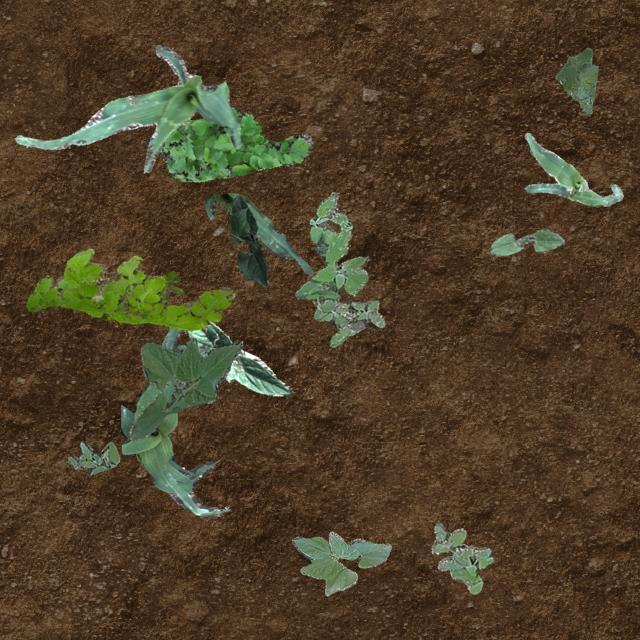crop: (14, 45, 240, 172), (120, 327, 228, 516), (128, 336, 242, 438), (204, 192, 312, 274), (186, 320, 292, 396), (524, 132, 622, 206), (290, 530, 390, 594), (228, 195, 268, 286), (488, 227, 564, 254)
weed: (25, 248, 234, 330), (294, 192, 384, 346), (158, 106, 312, 182), (430, 522, 492, 592), (554, 46, 598, 112), (66, 441, 118, 474), (160, 270, 182, 300)
